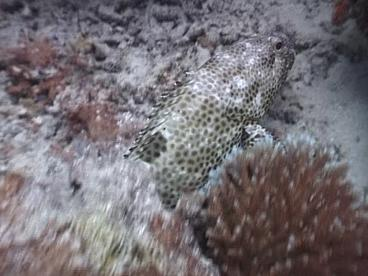Serranidae -Groupers-: (123, 24, 299, 209)
